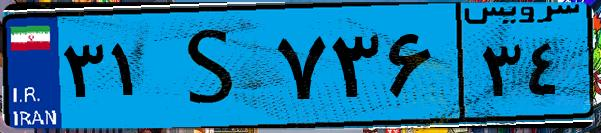1: (110, 28, 158, 98)
3: (330, 28, 385, 110), (57, 26, 110, 100), (475, 38, 525, 113)
4: (525, 38, 570, 115)
6: (385, 28, 445, 110)
7: (270, 28, 330, 110)
S: (158, 12, 270, 120)
